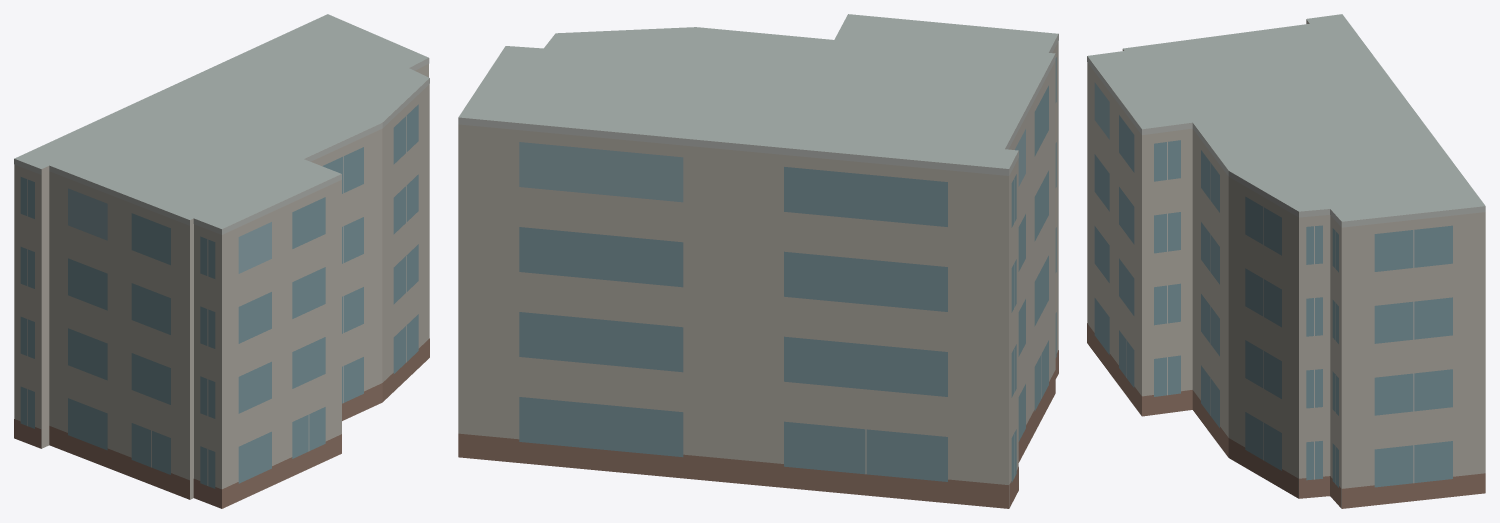
File: survey-upis-32671292.glb
The picture shows the model from 3 angles, left to right: view 1: azimuth 30°, elevation 25°; view 2: azimuth 150°, elevation 25°; view 3: azimuth 270°, elevation 25°; orthographic projection. The views are drawn at different scales.
Parts seen in each view (by area): view 1: survey-upis-32671292.tmp; view 2: survey-upis-32671292.tmp; view 3: survey-upis-32671292.tmp.
Part boxes in pixels (x1,y1,x2,y2): survey-upis-32671292.tmp: (14,14,429,508); survey-upis-32671292.tmp: (458,14,1058,508); survey-upis-32671292.tmp: (1087,14,1485,508).
Size of the model in its own units: 18.4 by 11.85 by 14.92.
